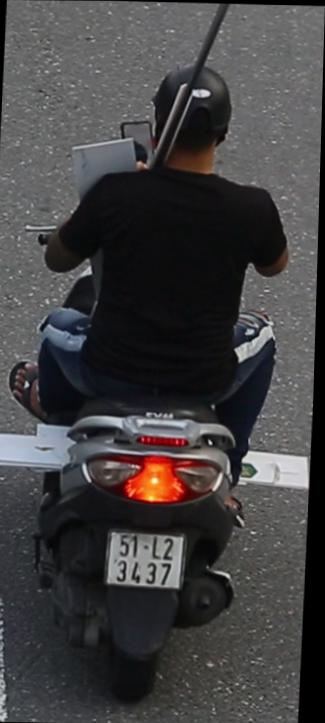LP: (103, 519, 194, 594)
helmet: (146, 55, 238, 185)
